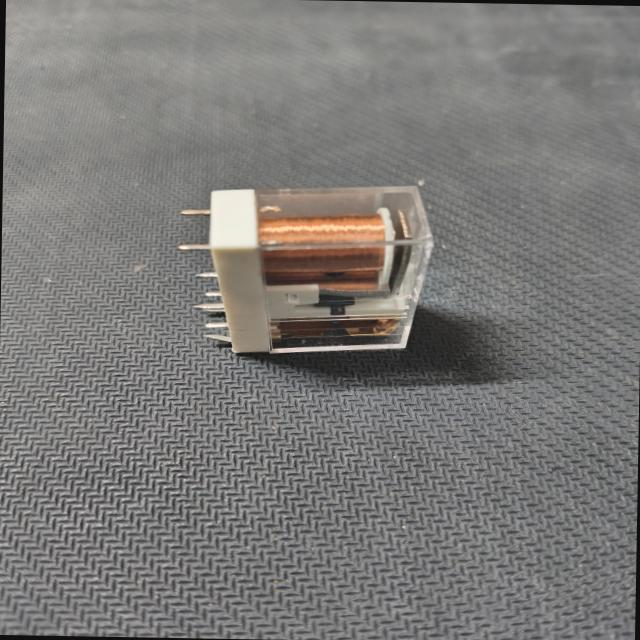relay: (171, 171, 440, 383)
